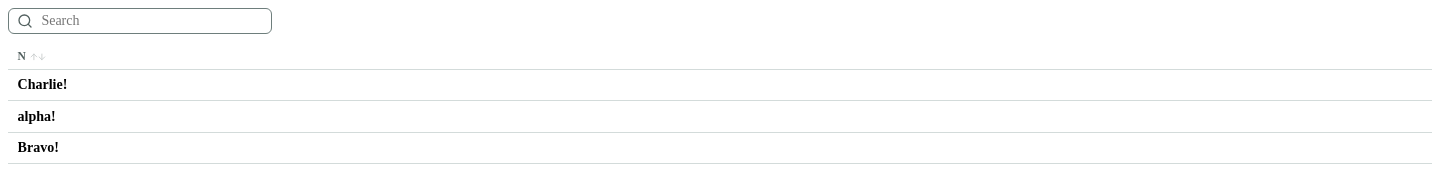
Test: render-only display still gets a title tooltip and is searchable via required value
expect the cell titled "Bravo" is shown: met, box [8,132,1432,164]
Type "brav" into the search field at (151, 21), box [39,12,263,30]
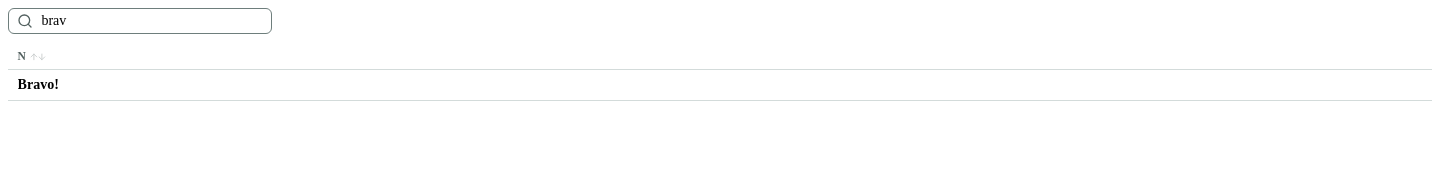
expect the number of rows is 2: met, box [8,42,1432,70]; [8,70,1432,101]
